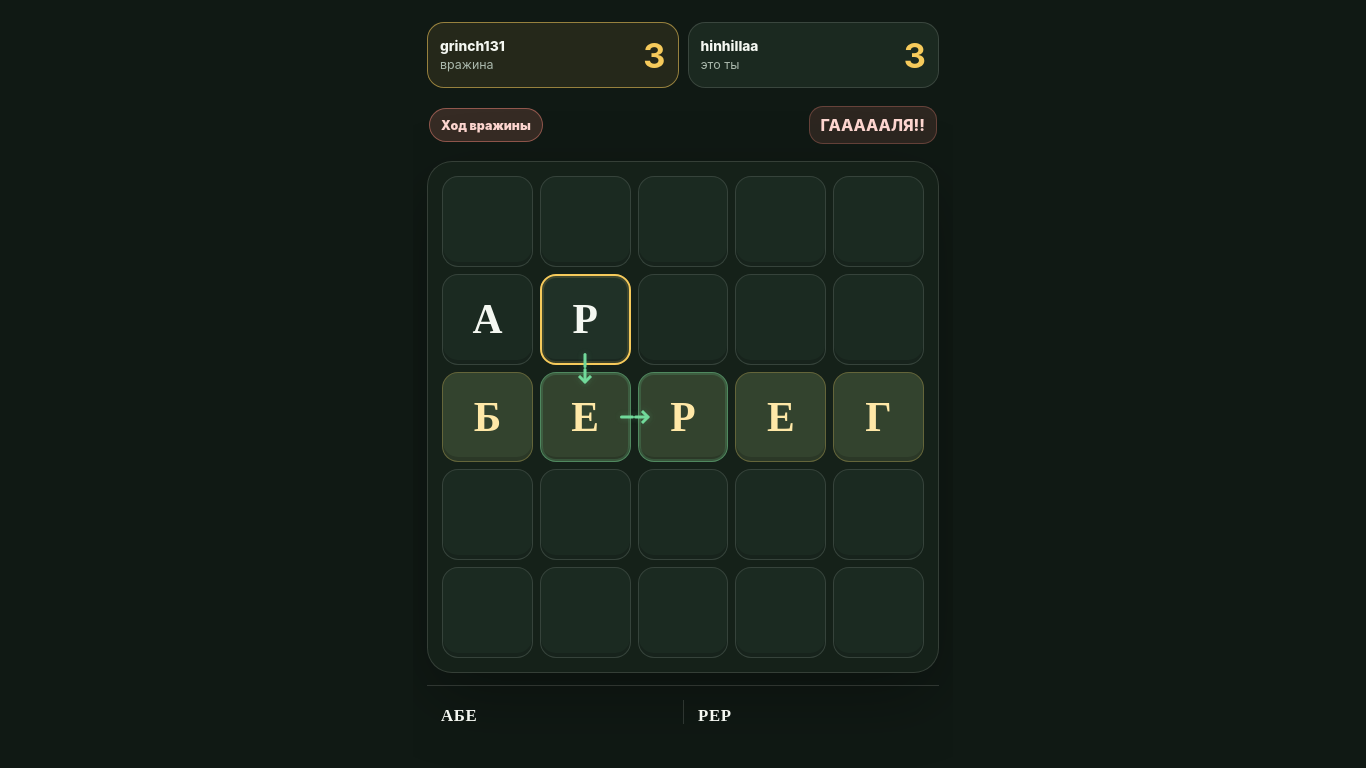
Test: GameScreen › pauses the selected word timer while rating and clears the selection on close
This screenshot has width=1366, height=768.
Click the button "АБЕ" at [459, 716], box [441,706,477,726]
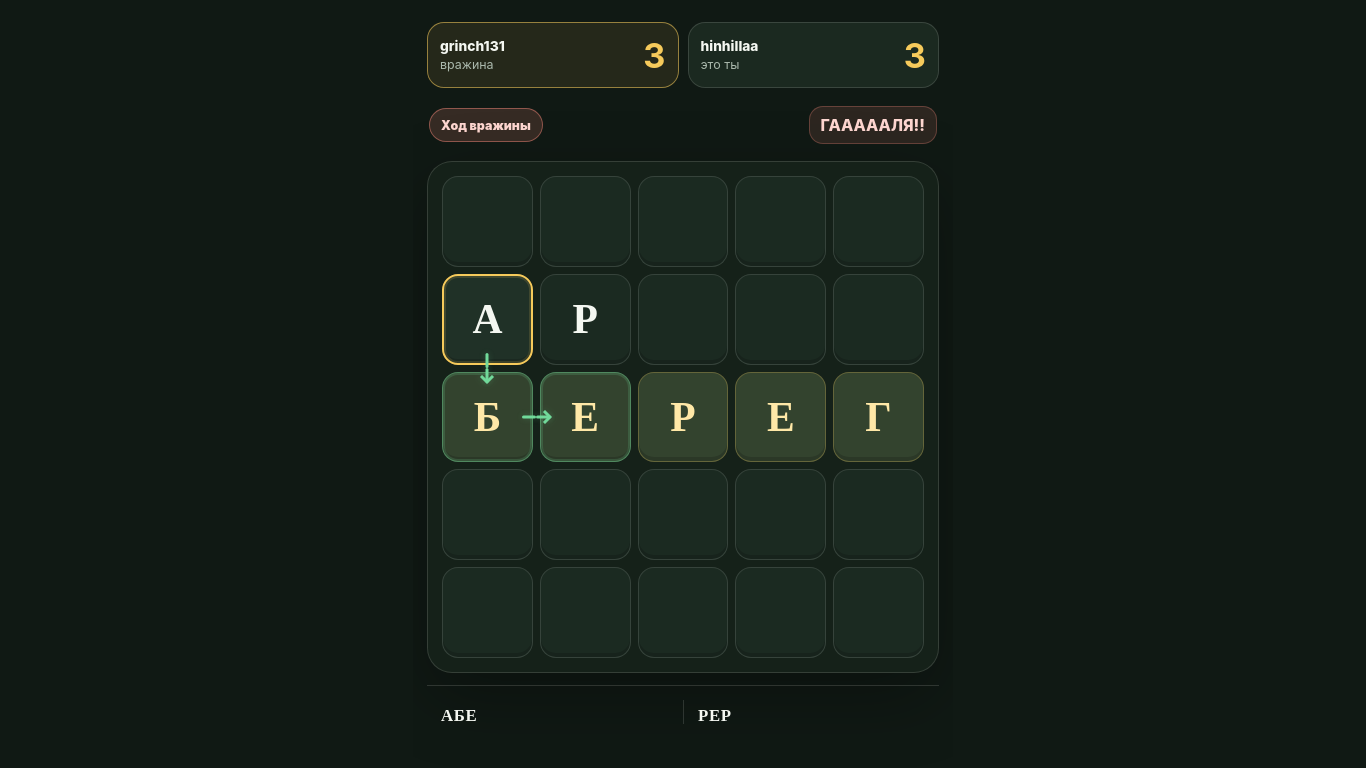
Click the button "АБЕ" at [459, 716], box [441,706,477,726]
Wait 30000 ms
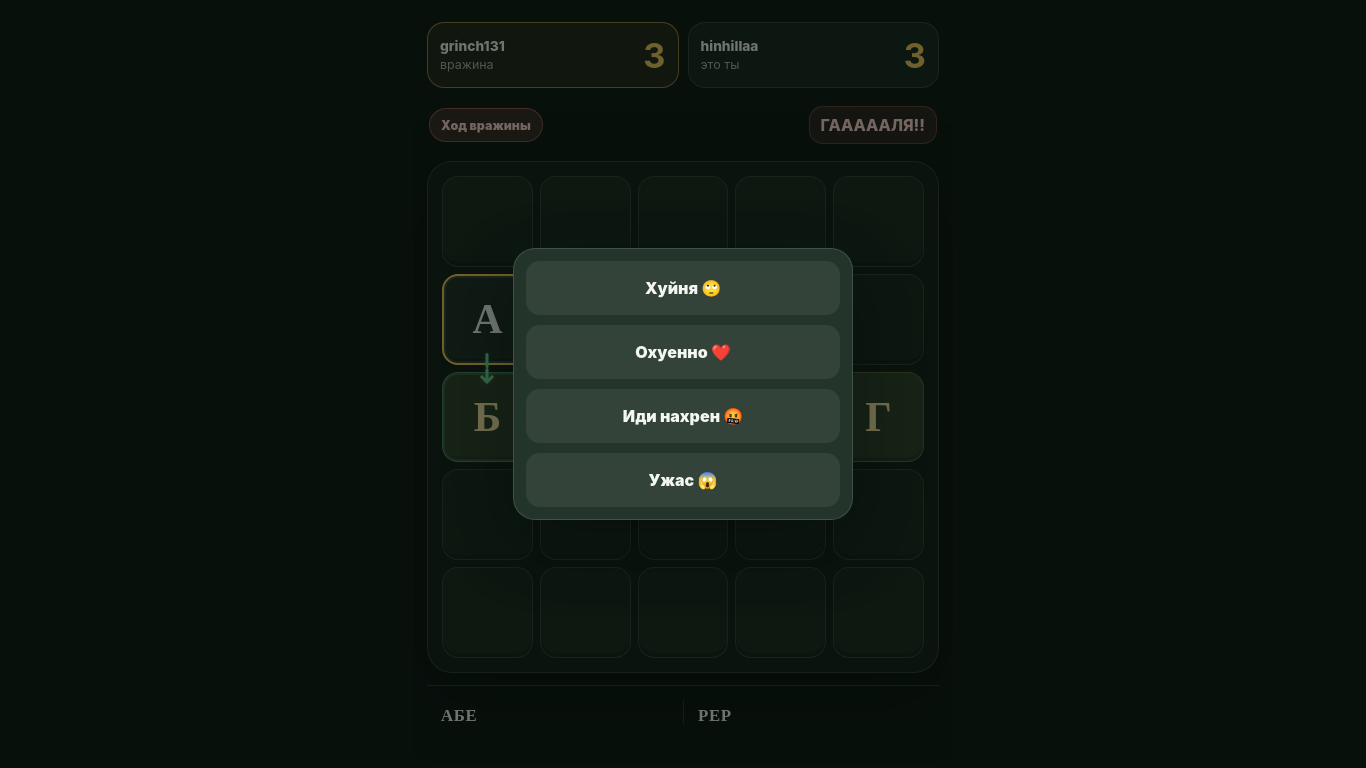
Expected: the dialog is shown, [513,248,853,520]
Click the element with class "rating-backdrop" at [82, 384], box [0,0,1365,767]
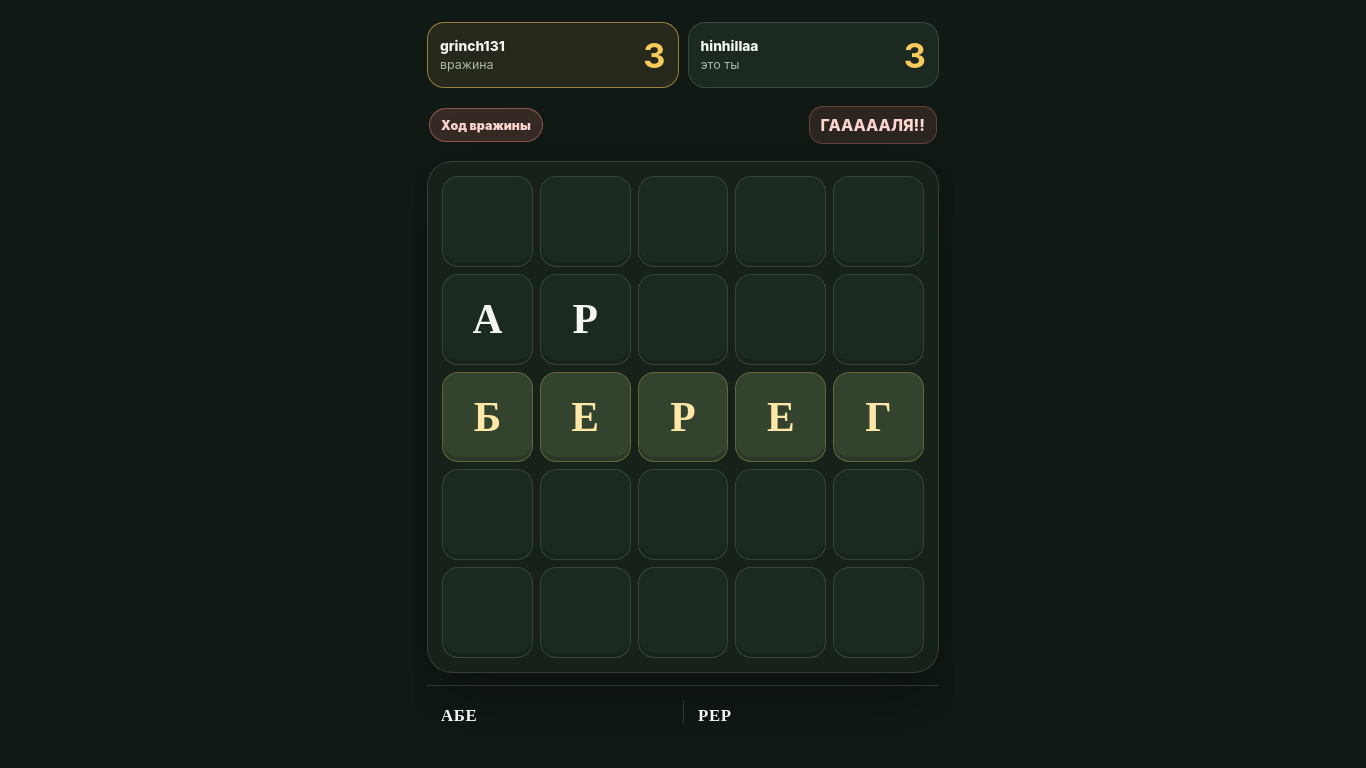
Expected: the dialog is gone
